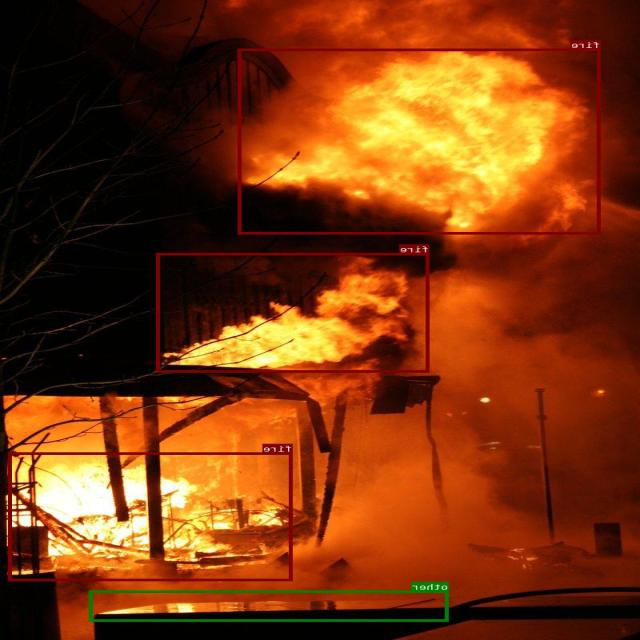fire: (238, 48, 602, 234), (9, 452, 293, 580), (157, 252, 430, 372)
other: (90, 590, 449, 621)
